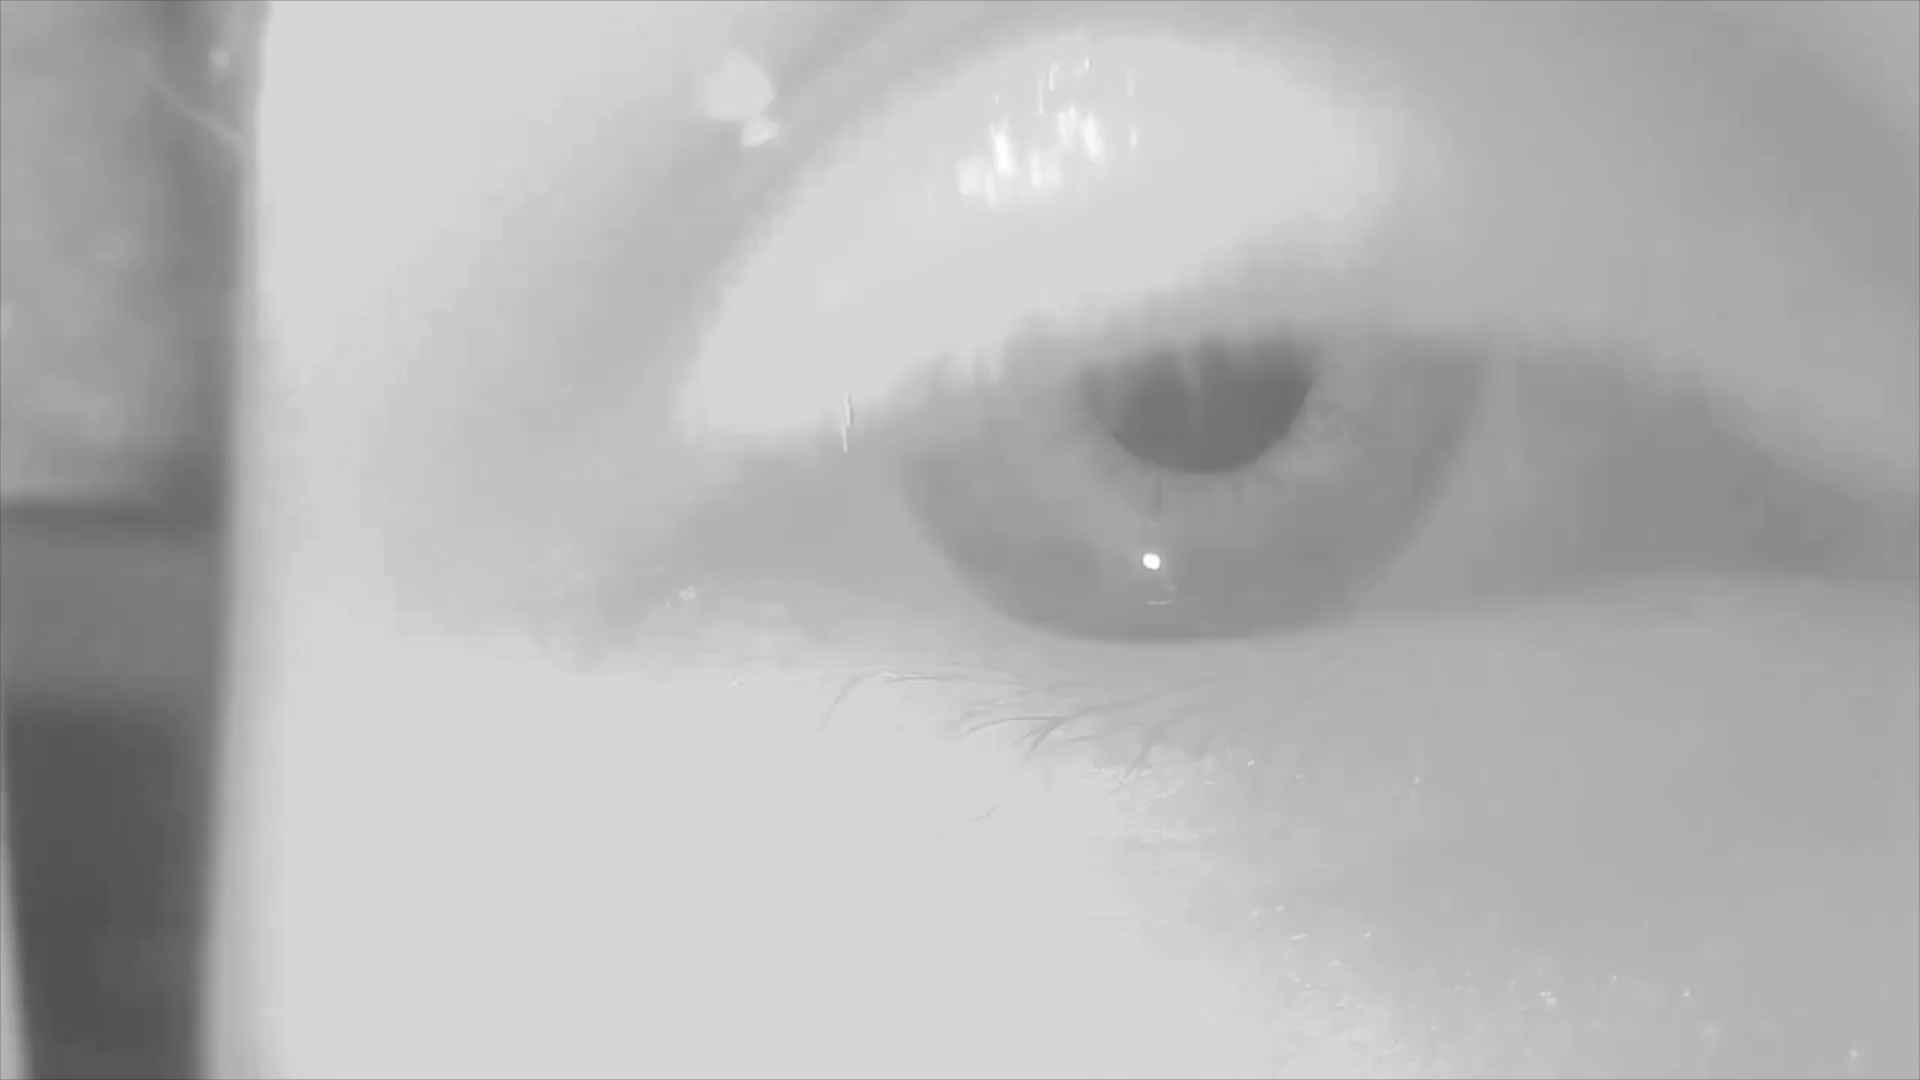pupil: (1070, 313, 1324, 474)
